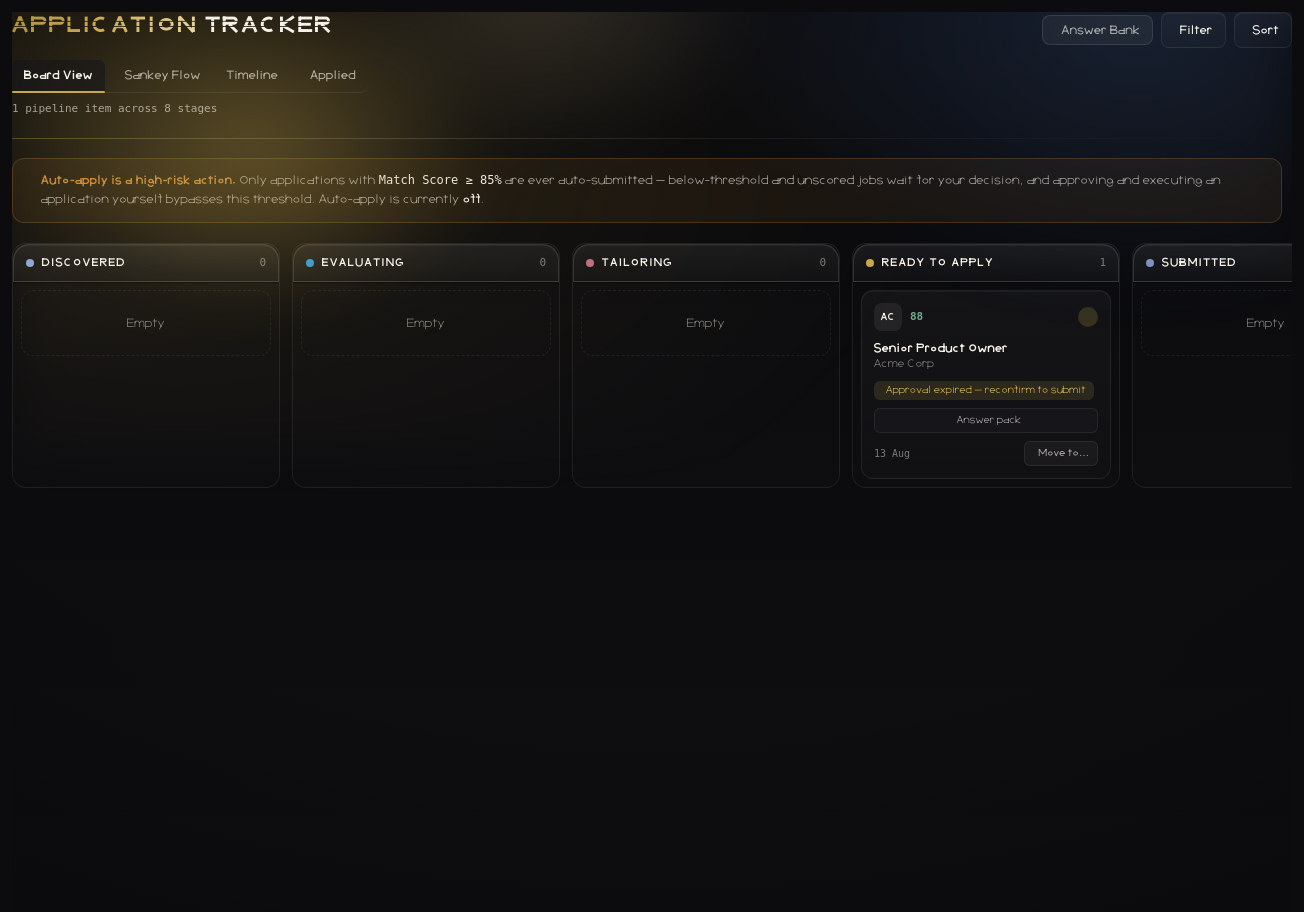
Scenario: U5 closing round — an expired approval is reconfirmable in one click › shows the expired-approval headline and a reconfirm button
The image size is (1304, 912).
Click the button "Senior Product Owner".
click(941, 348)  # box [874, 341, 1008, 356]
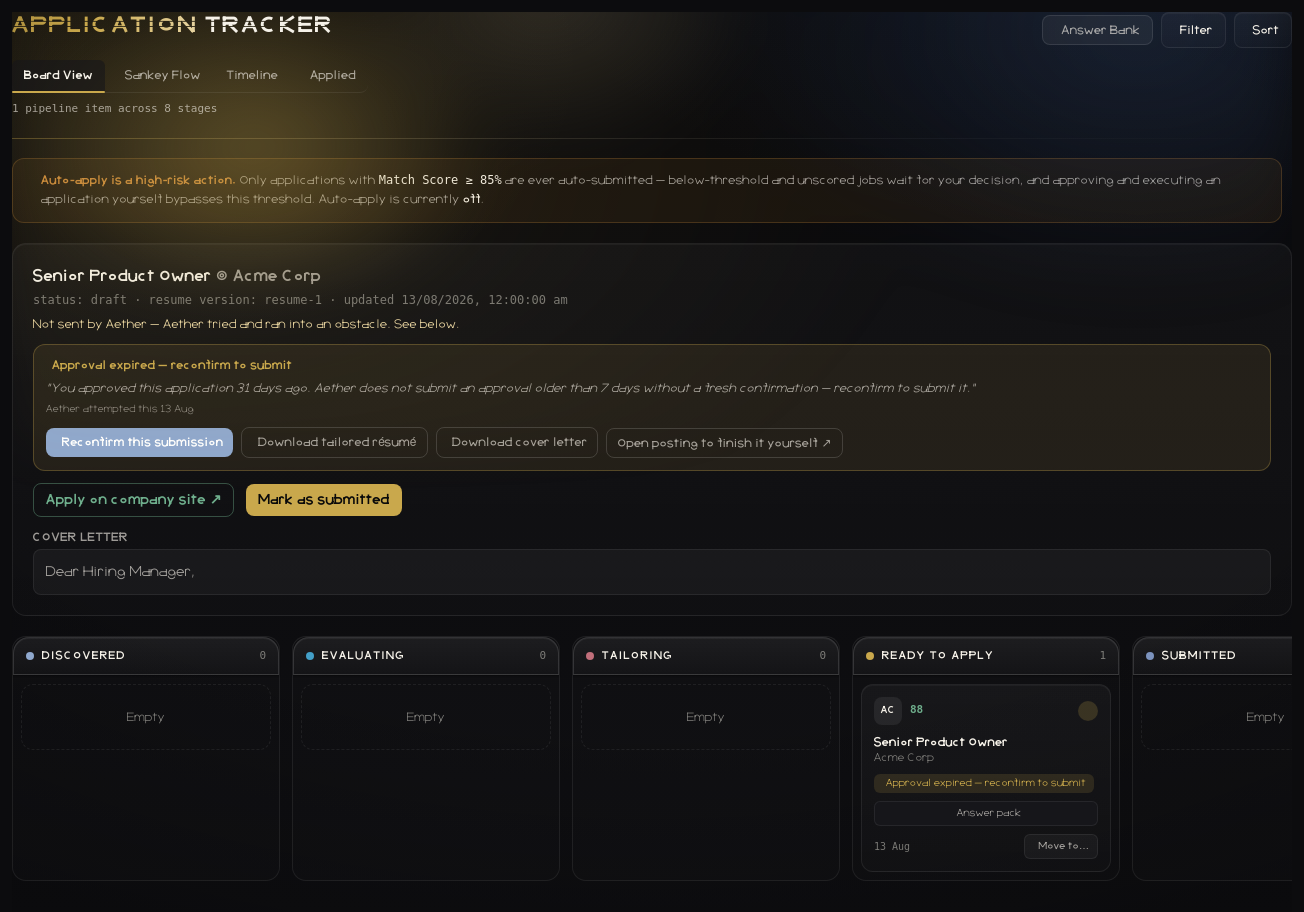
Check: the element with test id "application-manual-step-block" shows "Approval expired — reconfirm to submit", box [52, 358, 292, 370]
Check: the button with test id "manual-step-reconfirm-btn" is shown, box [46, 428, 234, 457]
